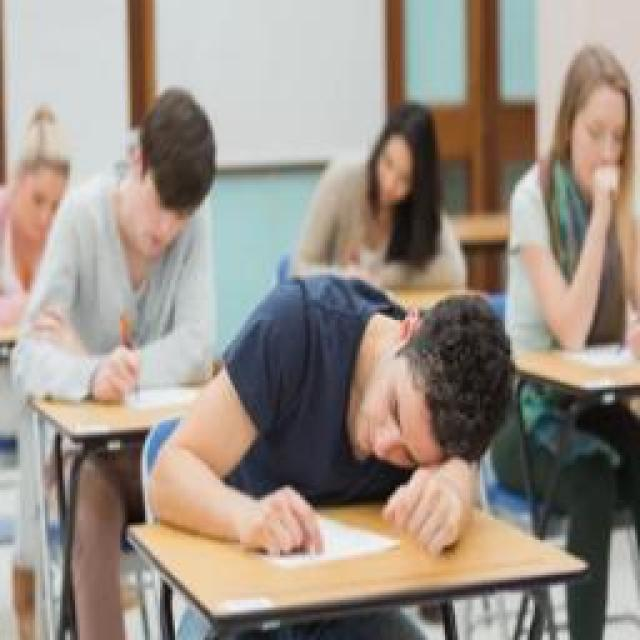sleep: (148, 278, 510, 570)
study: (20, 95, 222, 397), (510, 45, 640, 363), (280, 98, 468, 298)
